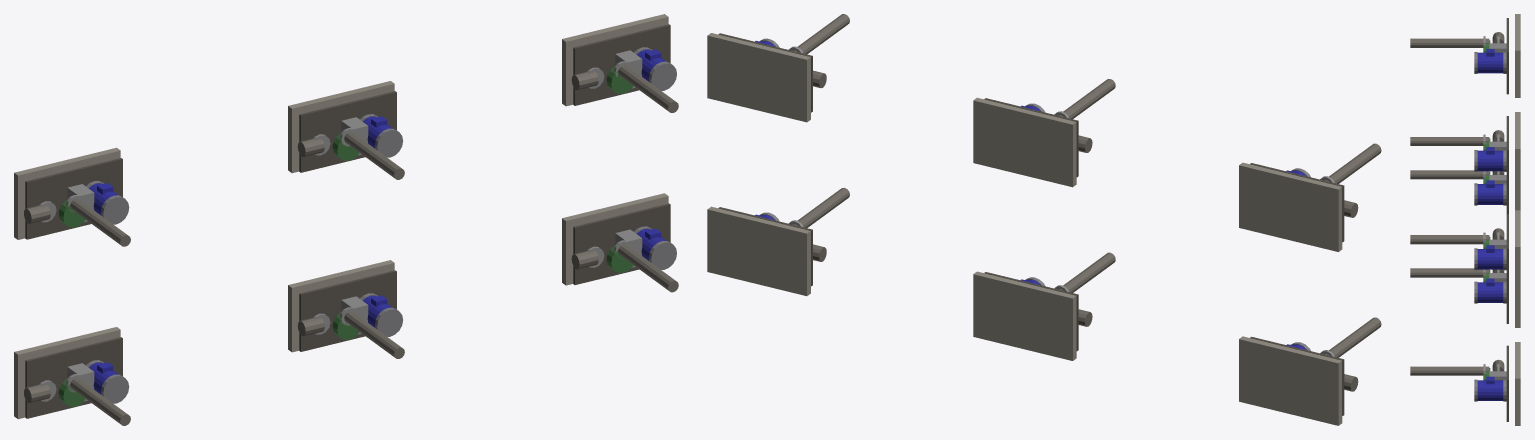
File: EQ_01_PUMPS.obj
3 renders of one model, left to right at view 1: azimuth 30°, elevation 25°; view 2: azimuth 150°, elevation 25°; view 3: azimuth 270°, elevation 25°, orthographic. The views are drawn at different scales.
Visible parts, largest first — view 1: PUMP_P04_Baseplate, PUMP_P02_Baseplate, PUMP_P01_Baseplate, PUMP_P06_Baseplate, PUMP_P03_Baseplate, PUMP_P05_Baseplate, PUMP_P04_InertiaPad, PUMP_P01_InertiaPad, PUMP_P02_InertiaPad, PUMP_P05_InertiaPad, PUMP_P03_InertiaPad, PUMP_P06_InertiaPad (+12 smaller); view 2: PUMP_P02_InertiaPad, PUMP_P03_InertiaPad, PUMP_P05_InertiaPad, PUMP_P06_InertiaPad, PUMP_P01_InertiaPad, PUMP_P04_InertiaPad, PUMP_P04_DischargeRiser, PUMP_P05_DischargeRiser, PUMP_P01_DischargeRiser, PUMP_P03_DischargeRiser, PUMP_P06_DischargeRiser, PUMP_P02_DischargeRiser; view 3: PUMP_P01_DischargeRiser, PUMP_P03_DischargeRiser, PUMP_P06_DischargeRiser, PUMP_P04_DischargeRiser, PUMP_P05_DischargeRiser, PUMP_P02_DischargeRiser, PUMP_P01_MotorBody, PUMP_P02_MotorBody, PUMP_P03_MotorBody, PUMP_P04_MotorBody, PUMP_P05_MotorBody, PUMP_P06_MotorBody (+19 smaller).
Part boxes in pixels (bbox=[...]): PUMP_P04_Baseplate: bbox=[25, 337, 122, 418]; PUMP_P02_Baseplate: bbox=[299, 91, 396, 172]; PUMP_P01_Baseplate: bbox=[25, 158, 122, 239]; PUMP_P06_Baseplate: bbox=[573, 203, 670, 284]; PUMP_P03_Baseplate: bbox=[573, 24, 670, 105]; PUMP_P05_Baseplate: bbox=[299, 270, 396, 351]; PUMP_P04_InertiaPad: bbox=[14, 327, 120, 419]; PUMP_P01_InertiaPad: bbox=[14, 147, 120, 239]; PUMP_P02_InertiaPad: bbox=[288, 81, 394, 173]; PUMP_P05_InertiaPad: bbox=[288, 260, 394, 352]; PUMP_P03_InertiaPad: bbox=[562, 14, 668, 106]; PUMP_P06_InertiaPad: bbox=[562, 193, 668, 285]; PUMP_P02_InertiaPad: bbox=[973, 97, 1076, 187]; PUMP_P03_InertiaPad: bbox=[707, 33, 810, 122]; PUMP_P05_InertiaPad: bbox=[973, 271, 1076, 360]; PUMP_P06_InertiaPad: bbox=[707, 206, 810, 296]; PUMP_P01_InertiaPad: bbox=[1239, 162, 1342, 251]; PUMP_P04_InertiaPad: bbox=[1239, 336, 1342, 425]; PUMP_P04_DischargeRiser: bbox=[1324, 317, 1381, 357]; PUMP_P05_DischargeRiser: bbox=[1058, 252, 1115, 292]; PUMP_P01_DischargeRiser: bbox=[1324, 143, 1381, 183]; PUMP_P03_DischargeRiser: bbox=[792, 14, 849, 54]; PUMP_P06_DischargeRiser: bbox=[792, 187, 849, 227]; PUMP_P02_DischargeRiser: bbox=[1058, 79, 1115, 119]; PUMP_P01_DischargeRiser: bbox=[1410, 38, 1489, 47]; PUMP_P03_DischargeRiser: bbox=[1410, 235, 1489, 244]; PUMP_P06_DischargeRiser: bbox=[1410, 366, 1489, 375]; PUMP_P04_DischargeRiser: bbox=[1410, 170, 1489, 179]; PUMP_P05_DischargeRiser: bbox=[1410, 268, 1489, 277]; PUMP_P02_DischargeRiser: bbox=[1410, 137, 1489, 145]; PUMP_P01_MotorBody: bbox=[1477, 52, 1503, 73]; PUMP_P02_MotorBody: bbox=[1477, 150, 1503, 171]; PUMP_P03_MotorBody: bbox=[1477, 249, 1503, 269]; PUMP_P04_MotorBody: bbox=[1477, 184, 1503, 204]; PUMP_P05_MotorBody: bbox=[1477, 282, 1503, 302]; PUMP_P06_MotorBody: bbox=[1477, 380, 1503, 400].
Bounding box in the file's own units: 9.52 × 3.4 × 1.9.
